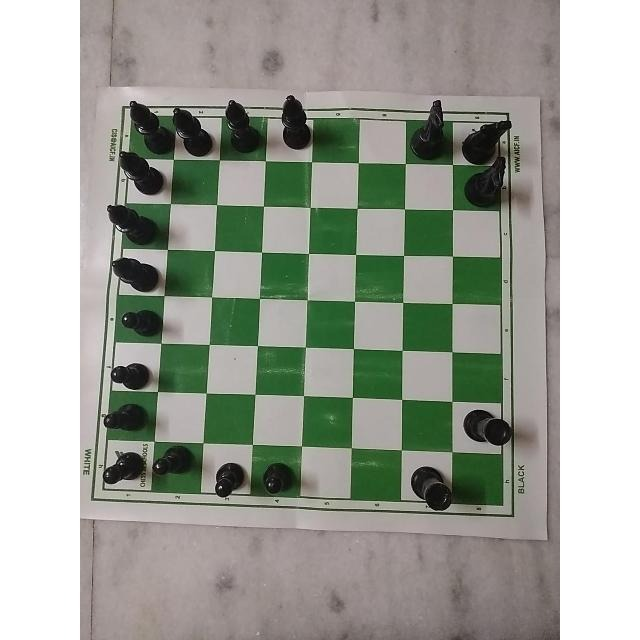black-bishop: (163, 98, 219, 162), (123, 91, 175, 159), (104, 191, 161, 249), (115, 144, 166, 200), (218, 96, 266, 153), (103, 251, 164, 291), (275, 89, 314, 149)
black-knight: (406, 94, 453, 167), (465, 154, 519, 210), (456, 110, 513, 160)
black-pawn: (199, 448, 253, 506), (94, 445, 146, 493), (252, 456, 300, 508), (147, 440, 201, 486), (104, 353, 156, 398), (94, 403, 152, 439), (109, 301, 163, 335)
black-rook: (401, 455, 457, 519), (458, 407, 513, 455)
